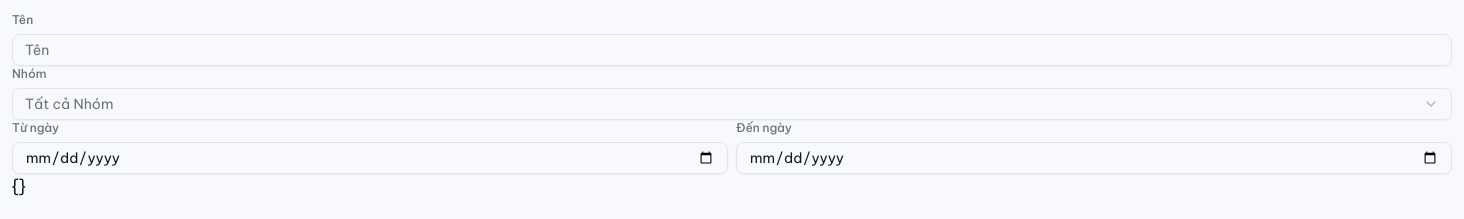
Test: CrudFilterFields › updates text/select values and keeps the all option as an empty filter
The width and height of the screenshot is (1464, 219).
Type "Minh" into the field labelled "Tên" at coordinates (732, 50), box [12, 34, 1452, 66]
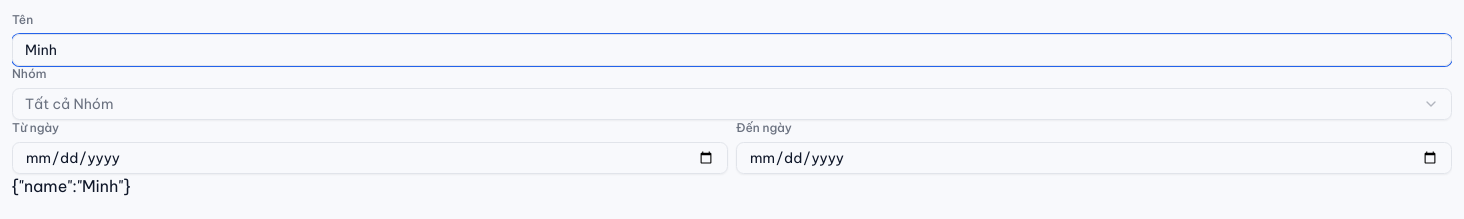
Expected: the text with test id "filter-value" shows "\"name\":\"Minh\"", [12, 176, 130, 196]
Click the dropdown labelled "Nhóm" at coordinates (69, 104), box [12, 88, 1452, 120]
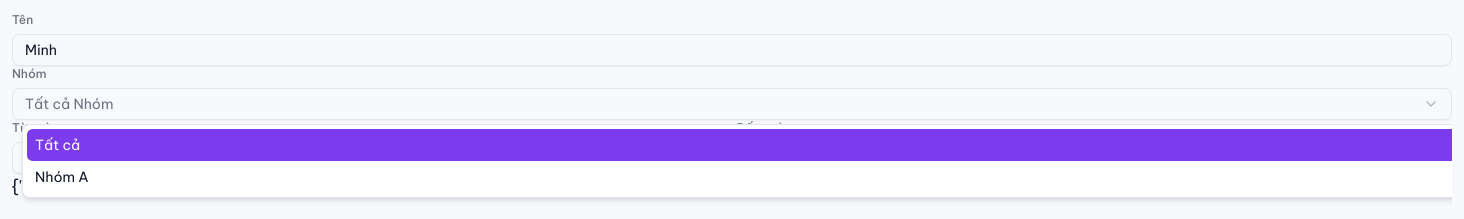
Click the option "Nhóm A" at coordinates (62, 177), box [35, 168, 89, 186]
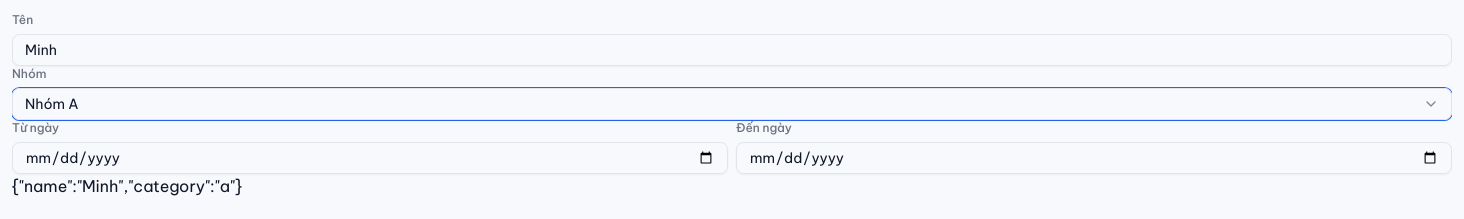
Expected: the text with test id "filter-value" shows "\"category\":\"a\"", [12, 176, 242, 196]
Click the dropdown labelled "Nhóm" at coordinates (52, 104), box [12, 88, 1452, 120]
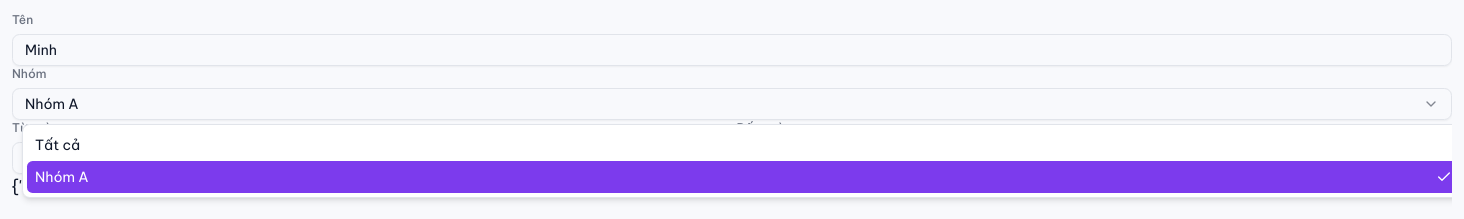
Click the option "Tất cả" at coordinates (58, 145), box [35, 136, 80, 154]
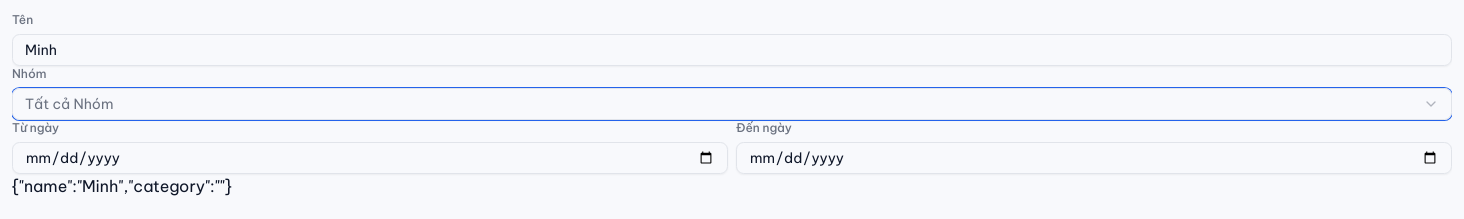
Expected: the text with test id "filter-value" shows "\"category\":\"\"", [12, 176, 232, 196]
